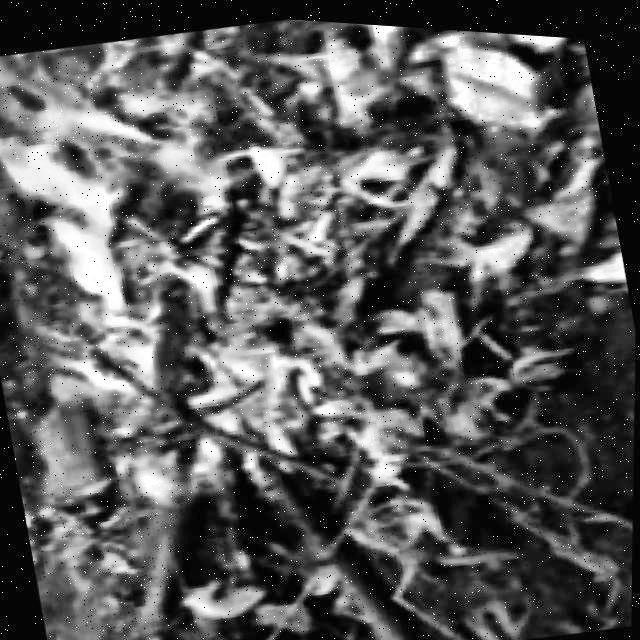Fire: (0, 9, 326, 516)
